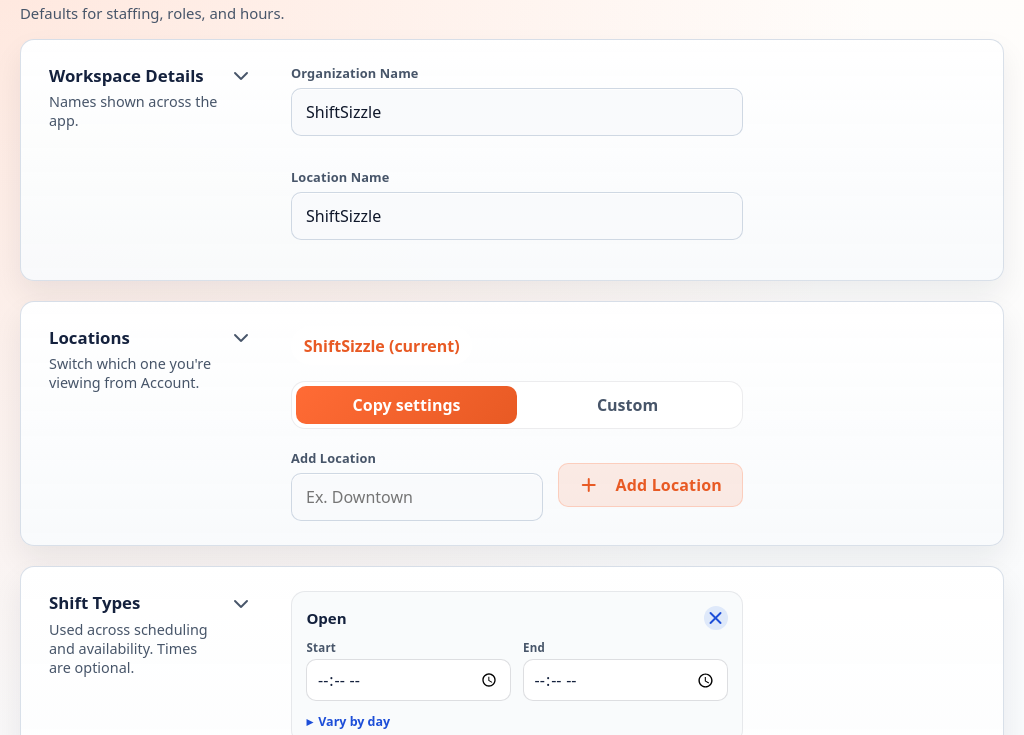
Test: Settings view › discards unsaved edits across all sections
Replace the text in the field labelled "Location Name" with "Uptown Diner": (517, 216) [291,192,743,240]
(page scrolled)
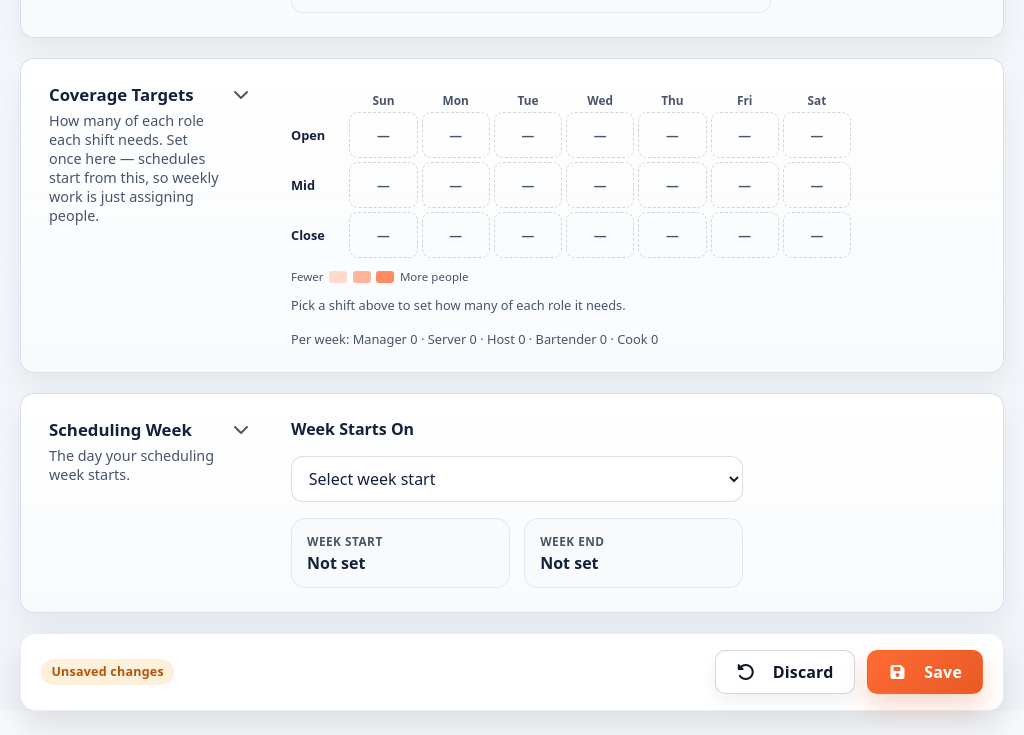
Click the button "Discard": (785, 672) [715,650,855,694]
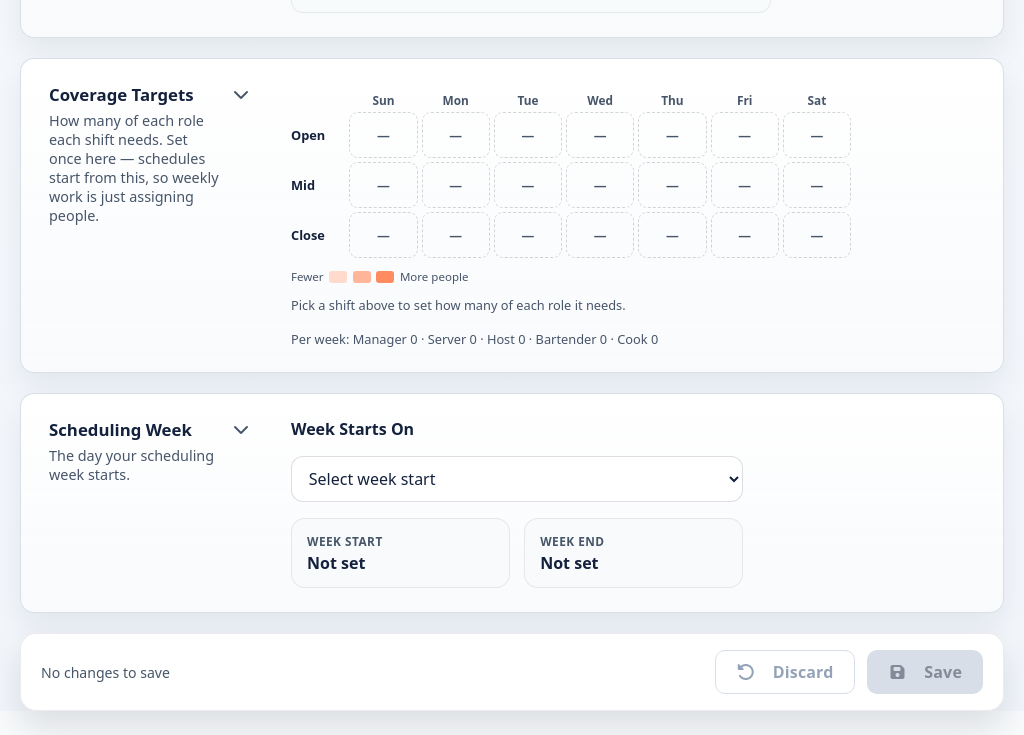
Expected: the text "No changes to save" is shown, [41,663,170,682]
Expected: the button "Save" is disabled, [866,650,983,694]
